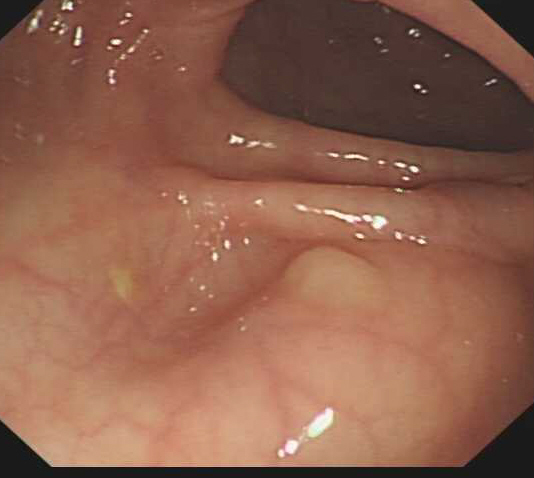adenoma: (280, 241, 389, 323)
